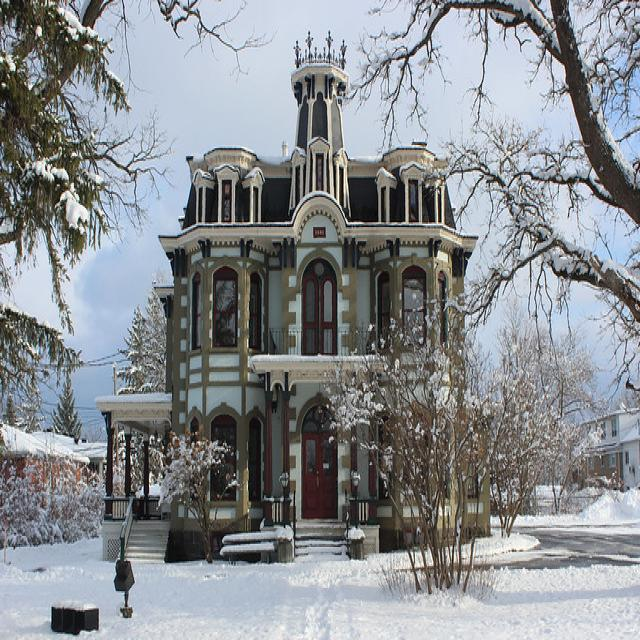building: (99, 55, 504, 568)
